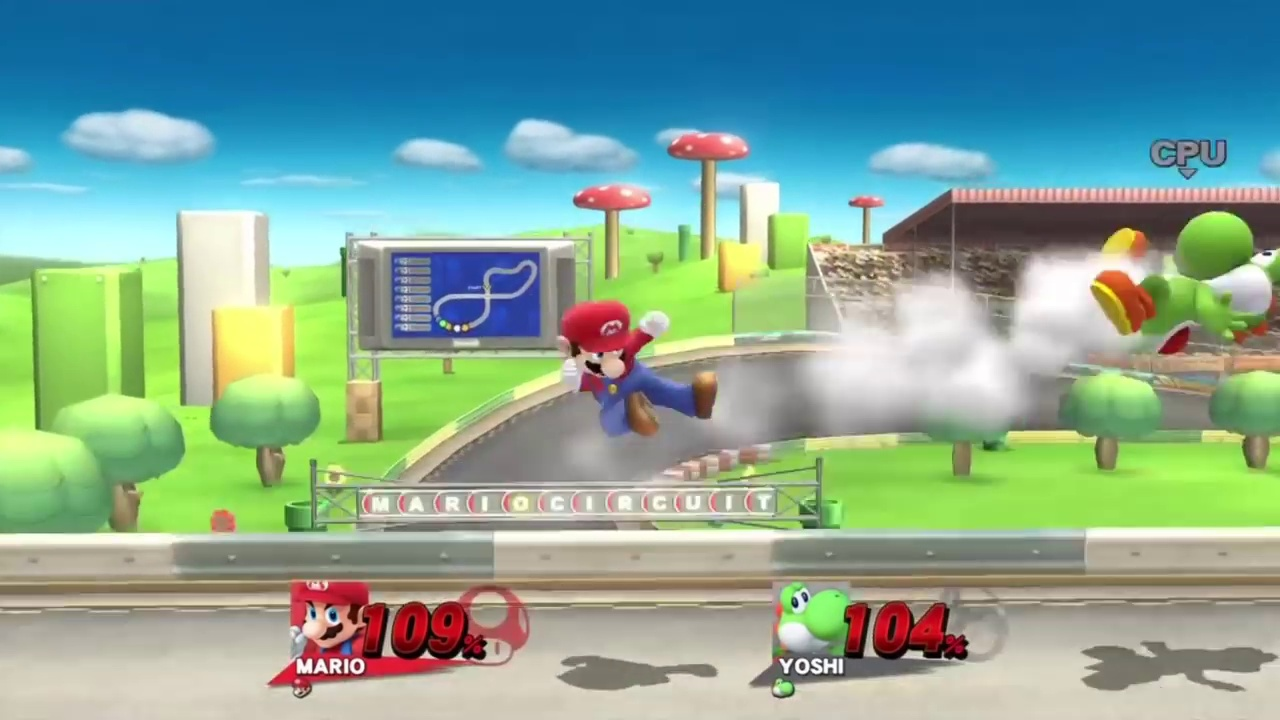Mario: (556, 301, 720, 436)
